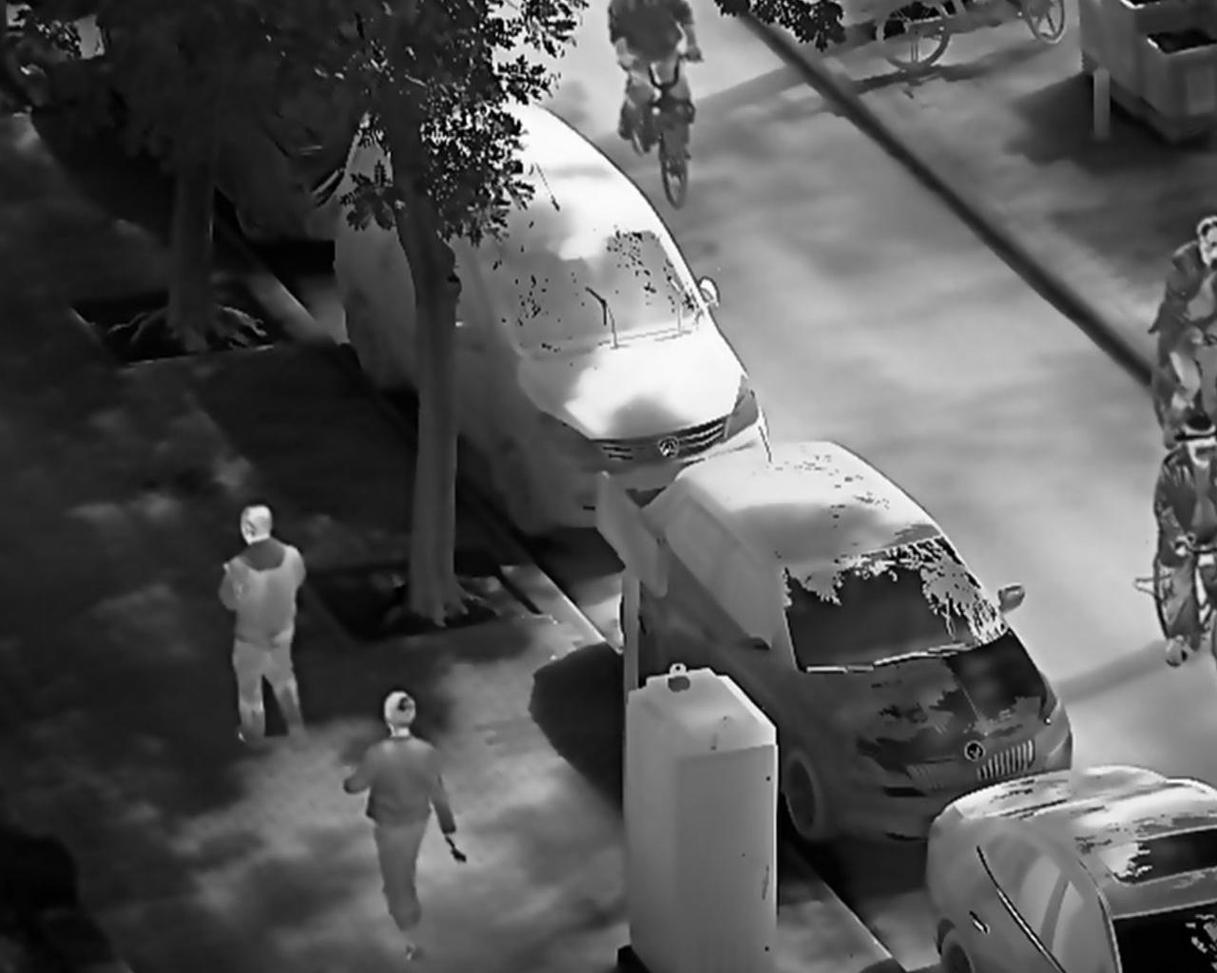person: (342, 688, 476, 969), (216, 500, 319, 757), (1150, 416, 1217, 672), (1151, 211, 1217, 452)
